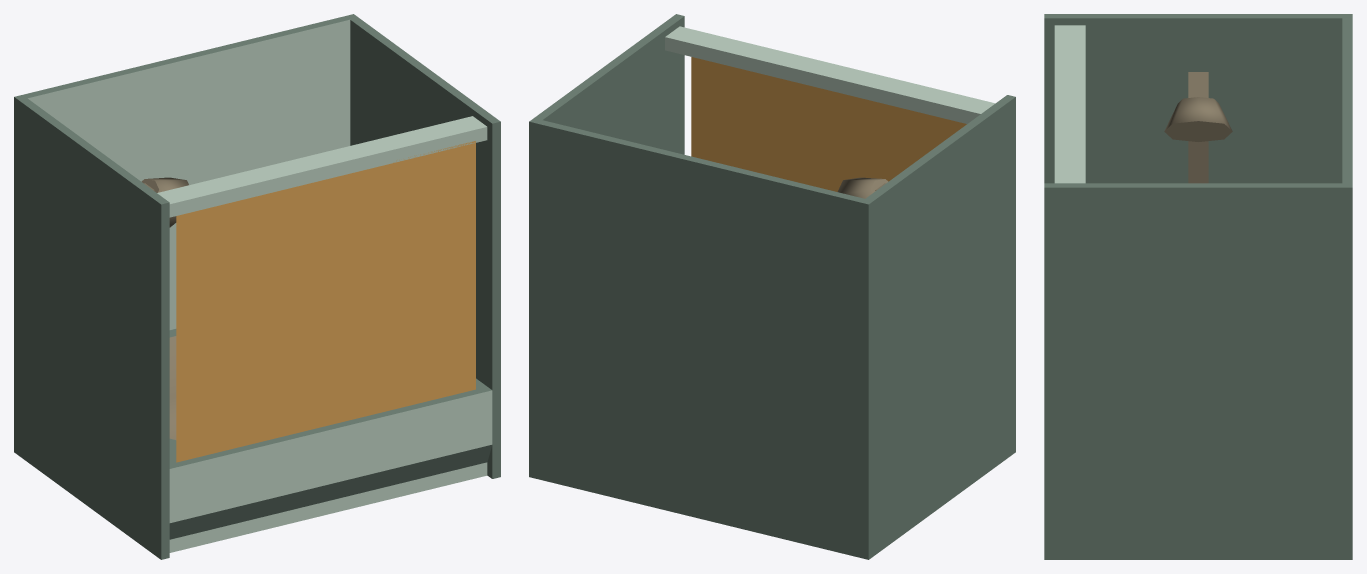
File: shower_01.fbx
3 renders of one model, left to right at view 1: azimuth 30°, elevation 25°; view 2: azimuth 150°, elevation 25°; view 3: azimuth 270°, elevation 25°, orthographic. The views are drawn at different scales.
Visible parts, largest first — view 1: Shower1, Shower1_Curtain; view 2: Shower1, Shower1_Curtain; view 3: Shower1.
Boxes of the visible parts, box(x1,y1,x2,y2) form: Shower1: box(14, 14, 500, 559); Shower1_Curtain: box(176, 141, 475, 462); Shower1: box(529, 14, 1015, 559); Shower1_Curtain: box(691, 57, 966, 191); Shower1: box(1044, 14, 1352, 559).
Bounding box in the file's own units: 253 × 253 × 189.
